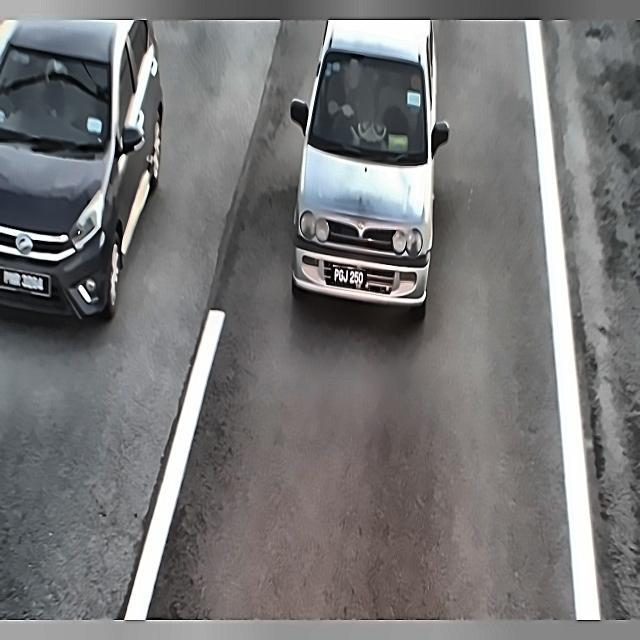car: (319, 257, 375, 300), (0, 267, 52, 297)
